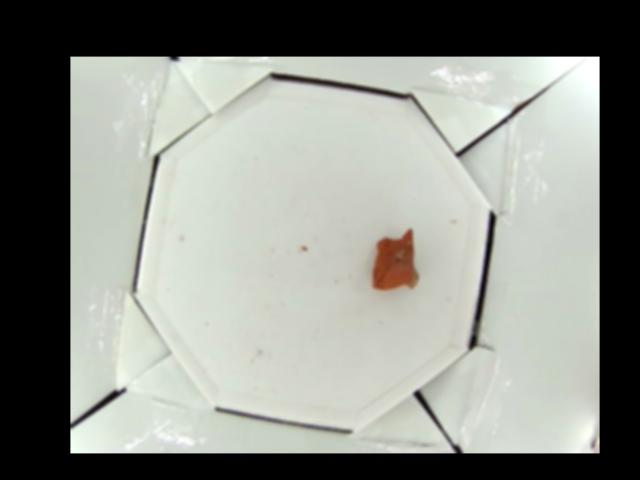Brisk: (373, 230, 420, 290)
